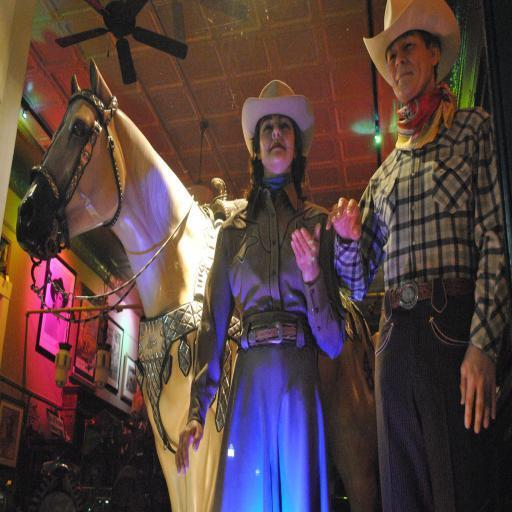horse: (16, 56, 384, 512)
